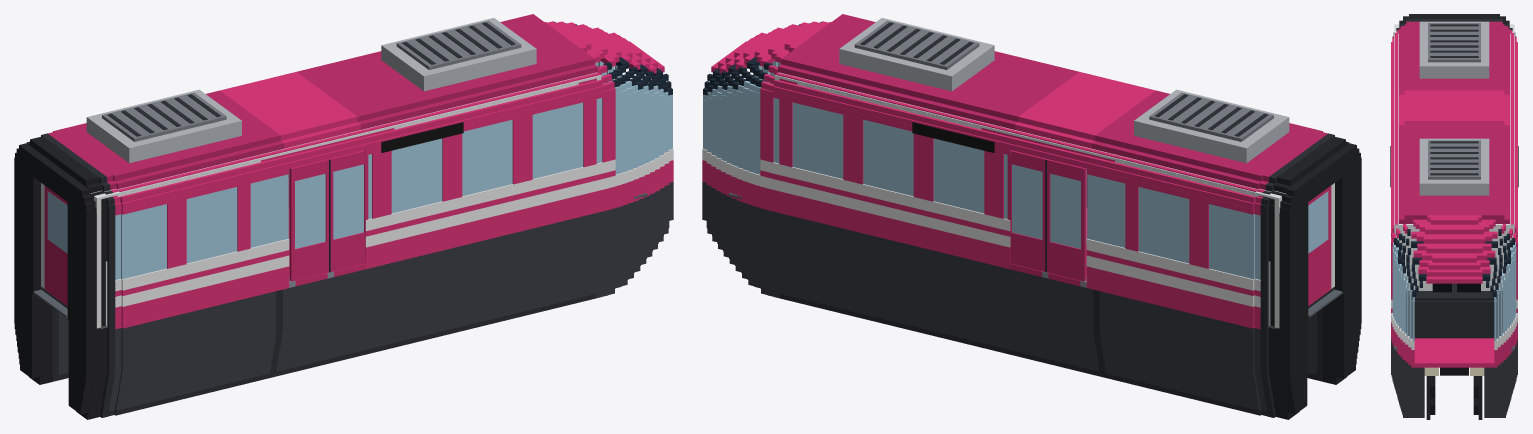
The model's file is mumbai_front.obj.
3 views of the same model, side by side, from view 1: azimuth 30°, elevation 25°; view 2: azimuth 150°, elevation 25°; view 3: azimuth 270°, elevation 25° (orthographic). The views are drawn at different scales.
Visible parts, largest first — view 1: SHELL, SHELL_roof, SHELL_diaphragm, EXTERNAL_DOOR_3_CG_DR1_TOGGLE_TL_-0.69_X, EXTERNAL_DOOR_4_CG_DR1_TOGGLE_TL_0.69_X, CONNECTING_DOOR_1_CG_CR_TOGGLE_TL_0.98_Z, SHELL_ceiling, SHELL_end, SHELL_sign, SHELL_ad; view 2: SHELL, SHELL_roof, SHELL_diaphragm, EXTERNAL_DOOR_6_CG_DL1_TOGGLE_TL_-0.69_X, EXTERNAL_DOOR_7_CG_DL1_TOGGLE_TL_0.69_X, CONNECTING_DOOR_1_CG_CR_TOGGLE_TL_0.98_Z, SHELL_ceiling, SHELL_end, SHELL_sign, SHELL_ad; view 3: SHELL, SHELL_roof, SHELL_desk, SHELL_cabwall, BOGEY_FRONT, SHELL_ceiling, HEADLIGHT_1, BOGEY_FRONT_WHEEL_1.
Boxes of the visible parts, bbox=[...] form: SHELL: bbox=[26, 14, 673, 419]; SHELL_roof: bbox=[86, 18, 536, 163]; SHELL_diaphragm: bbox=[14, 143, 94, 414]; EXTERNAL_DOOR_3_CG_DR1_TOGGLE_TL_-0.69_X: bbox=[289, 159, 330, 281]; EXTERNAL_DOOR_4_CG_DR1_TOGGLE_TL_0.69_X: bbox=[329, 150, 368, 271]; CONNECTING_DOOR_1_CG_CR_TOGGLE_TL_0.98_Z: bbox=[44, 185, 67, 305]; SHELL_ceiling: bbox=[94, 73, 596, 199]; SHELL_end: bbox=[41, 183, 101, 328]; SHELL_sign: bbox=[381, 122, 463, 152]; SHELL_ad: bbox=[117, 83, 578, 196]; SHELL: bbox=[702, 14, 1349, 419]; SHELL_roof: bbox=[839, 18, 1289, 163]; SHELL_diaphragm: bbox=[1281, 143, 1361, 414]; EXTERNAL_DOOR_6_CG_DL1_TOGGLE_TL_-0.69_X: bbox=[1045, 159, 1086, 281]; EXTERNAL_DOOR_7_CG_DL1_TOGGLE_TL_0.69_X: bbox=[1007, 150, 1045, 271]; CONNECTING_DOOR_1_CG_CR_TOGGLE_TL_0.98_Z: bbox=[1308, 185, 1331, 305]; SHELL_ceiling: bbox=[779, 73, 1281, 199]; SHELL_end: bbox=[1274, 183, 1334, 328]; SHELL_sign: bbox=[912, 122, 994, 152]; SHELL_ad: bbox=[797, 83, 1258, 196]; SHELL: bbox=[1391, 14, 1517, 417]; SHELL_roof: bbox=[1419, 21, 1489, 195]; SHELL_desk: bbox=[1406, 283, 1502, 338]; SHELL_cabwall: bbox=[1394, 223, 1514, 290]; BOGEY_FRONT: bbox=[1426, 376, 1482, 419]; SHELL_ceiling: bbox=[1394, 25, 1514, 223]; HEADLIGHT_1: bbox=[1424, 367, 1484, 375]; BOGEY_FRONT_WHEEL_1: bbox=[1440, 367, 1468, 375].
Bounding box in the file's own units: 11.66 × 4.8 × 2.66.
1 material, 1 textured.
